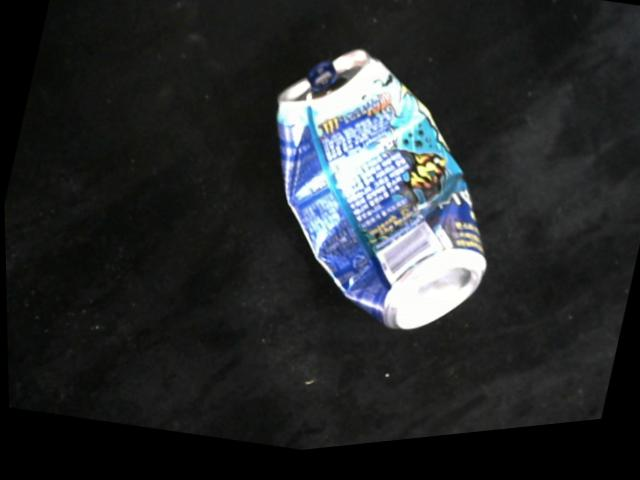can: (275, 62, 485, 340)
